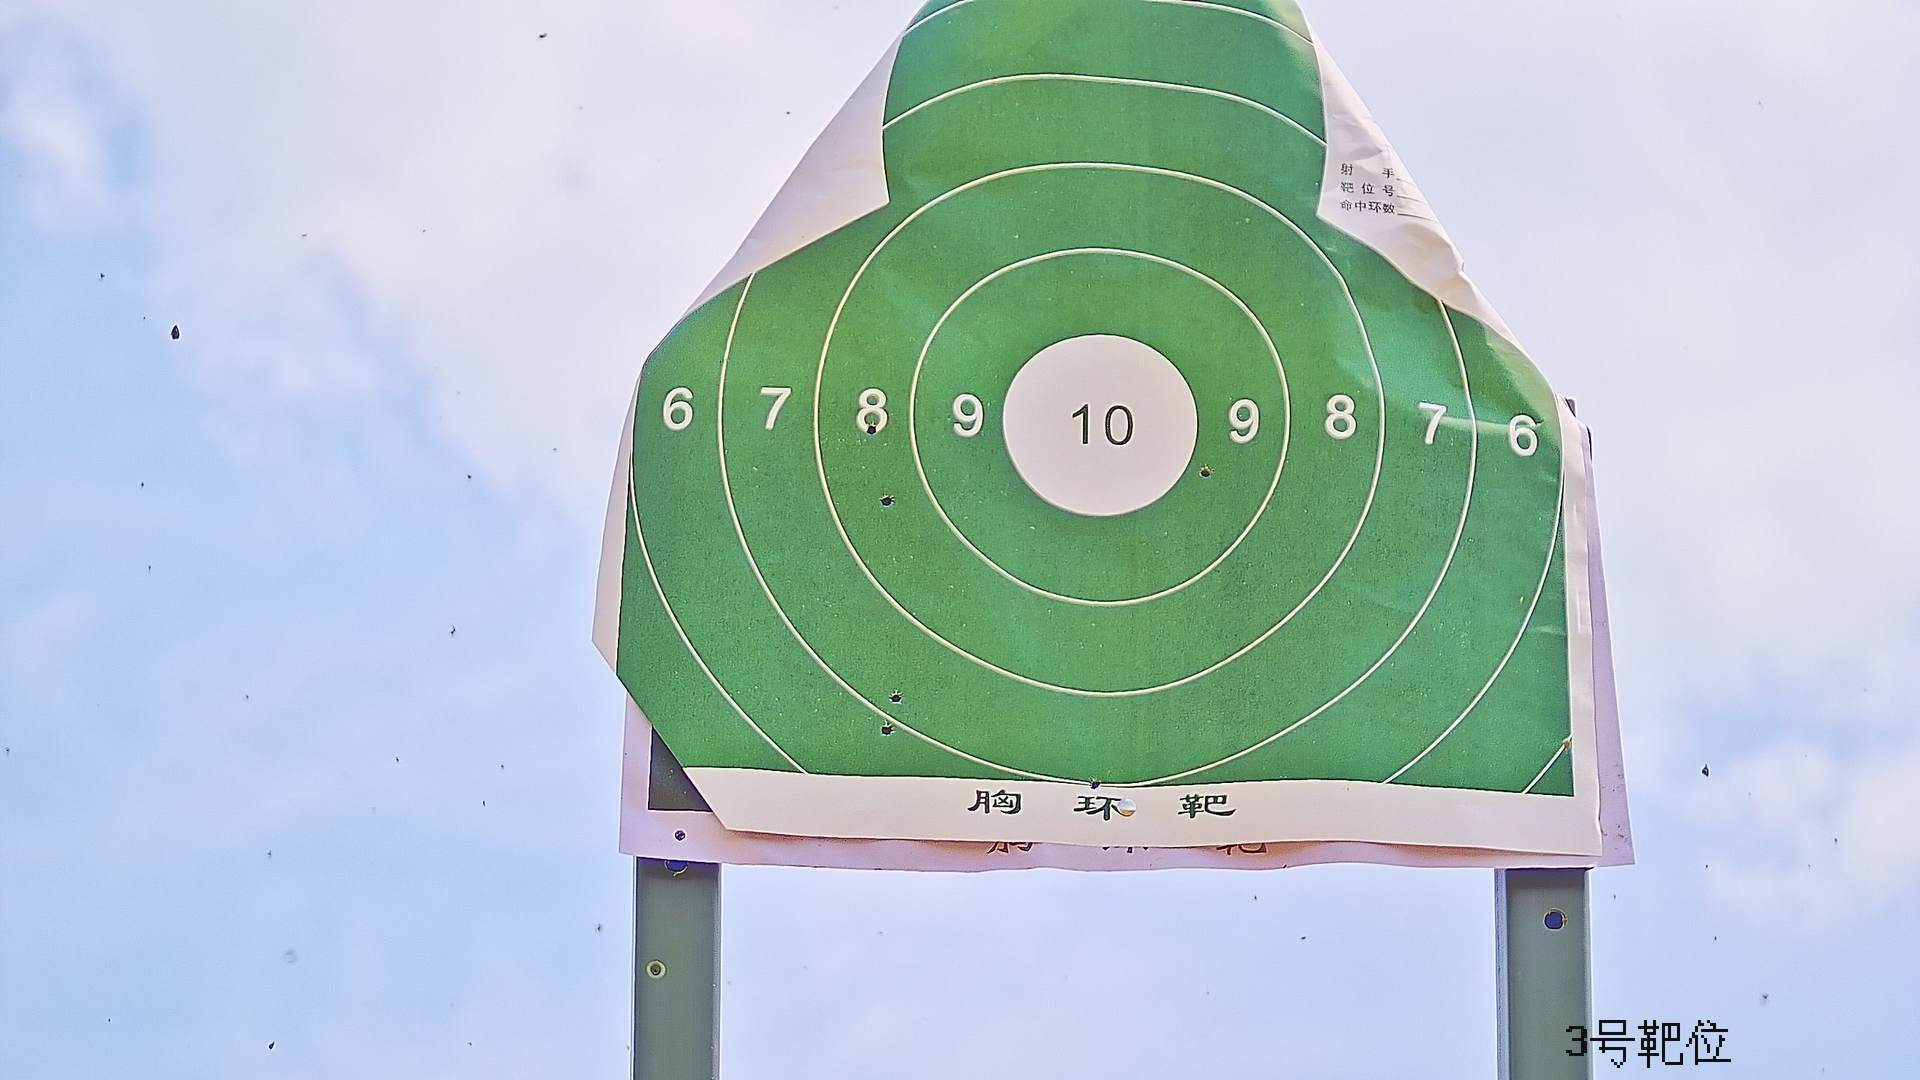hole: (880, 493, 895, 508), (890, 690, 903, 704), (865, 423, 878, 436), (1200, 465, 1212, 479), (1091, 778, 1101, 791), (882, 721, 891, 736)
target: (618, 3, 1575, 800)
ten: (1001, 327, 1195, 522)
